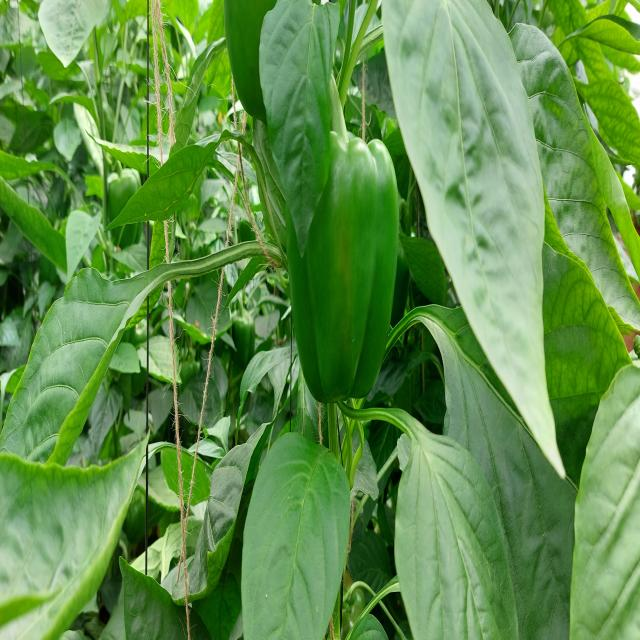Green--Not-ready-to-harvest: (286, 120, 398, 407)
